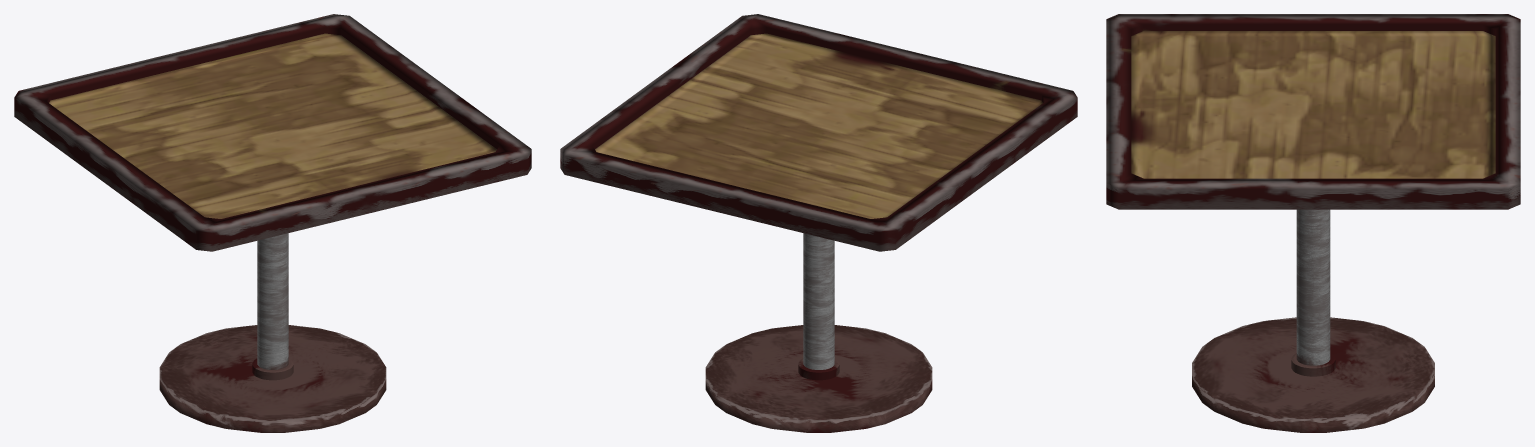
Rendered from Table.fbx.
3 renders of one model, left to right at view 1: azimuth 30°, elevation 25°; view 2: azimuth 150°, elevation 25°; view 3: azimuth 270°, elevation 25°, orthographic. The views are drawn at different scales.
Parts seen in each view (by area): view 1: Cube, Cylinder, Cylinder.002, Cylinder.001; view 2: Cube, Cylinder, Cylinder.002, Cylinder.001; view 3: Cube, Cylinder, Cylinder.002, Cylinder.001.
Boxes of the visible parts, x1,y1,x2,y2 form: Cube: [14, 14, 531, 251]; Cylinder: [159, 325, 386, 432]; Cylinder.002: [257, 233, 288, 369]; Cylinder.001: [252, 358, 293, 380]; Cube: [560, 14, 1077, 251]; Cylinder: [705, 325, 932, 432]; Cylinder.002: [803, 233, 834, 369]; Cylinder.001: [798, 358, 839, 380]; Cube: [1106, 14, 1520, 209]; Cylinder: [1192, 317, 1434, 432]; Cylinder.002: [1296, 209, 1330, 365]; Cylinder.001: [1291, 353, 1335, 376].
Bounding box in the file's own units: 333 × 248 × 333.
Materials: 1 (1 with a texture image).
